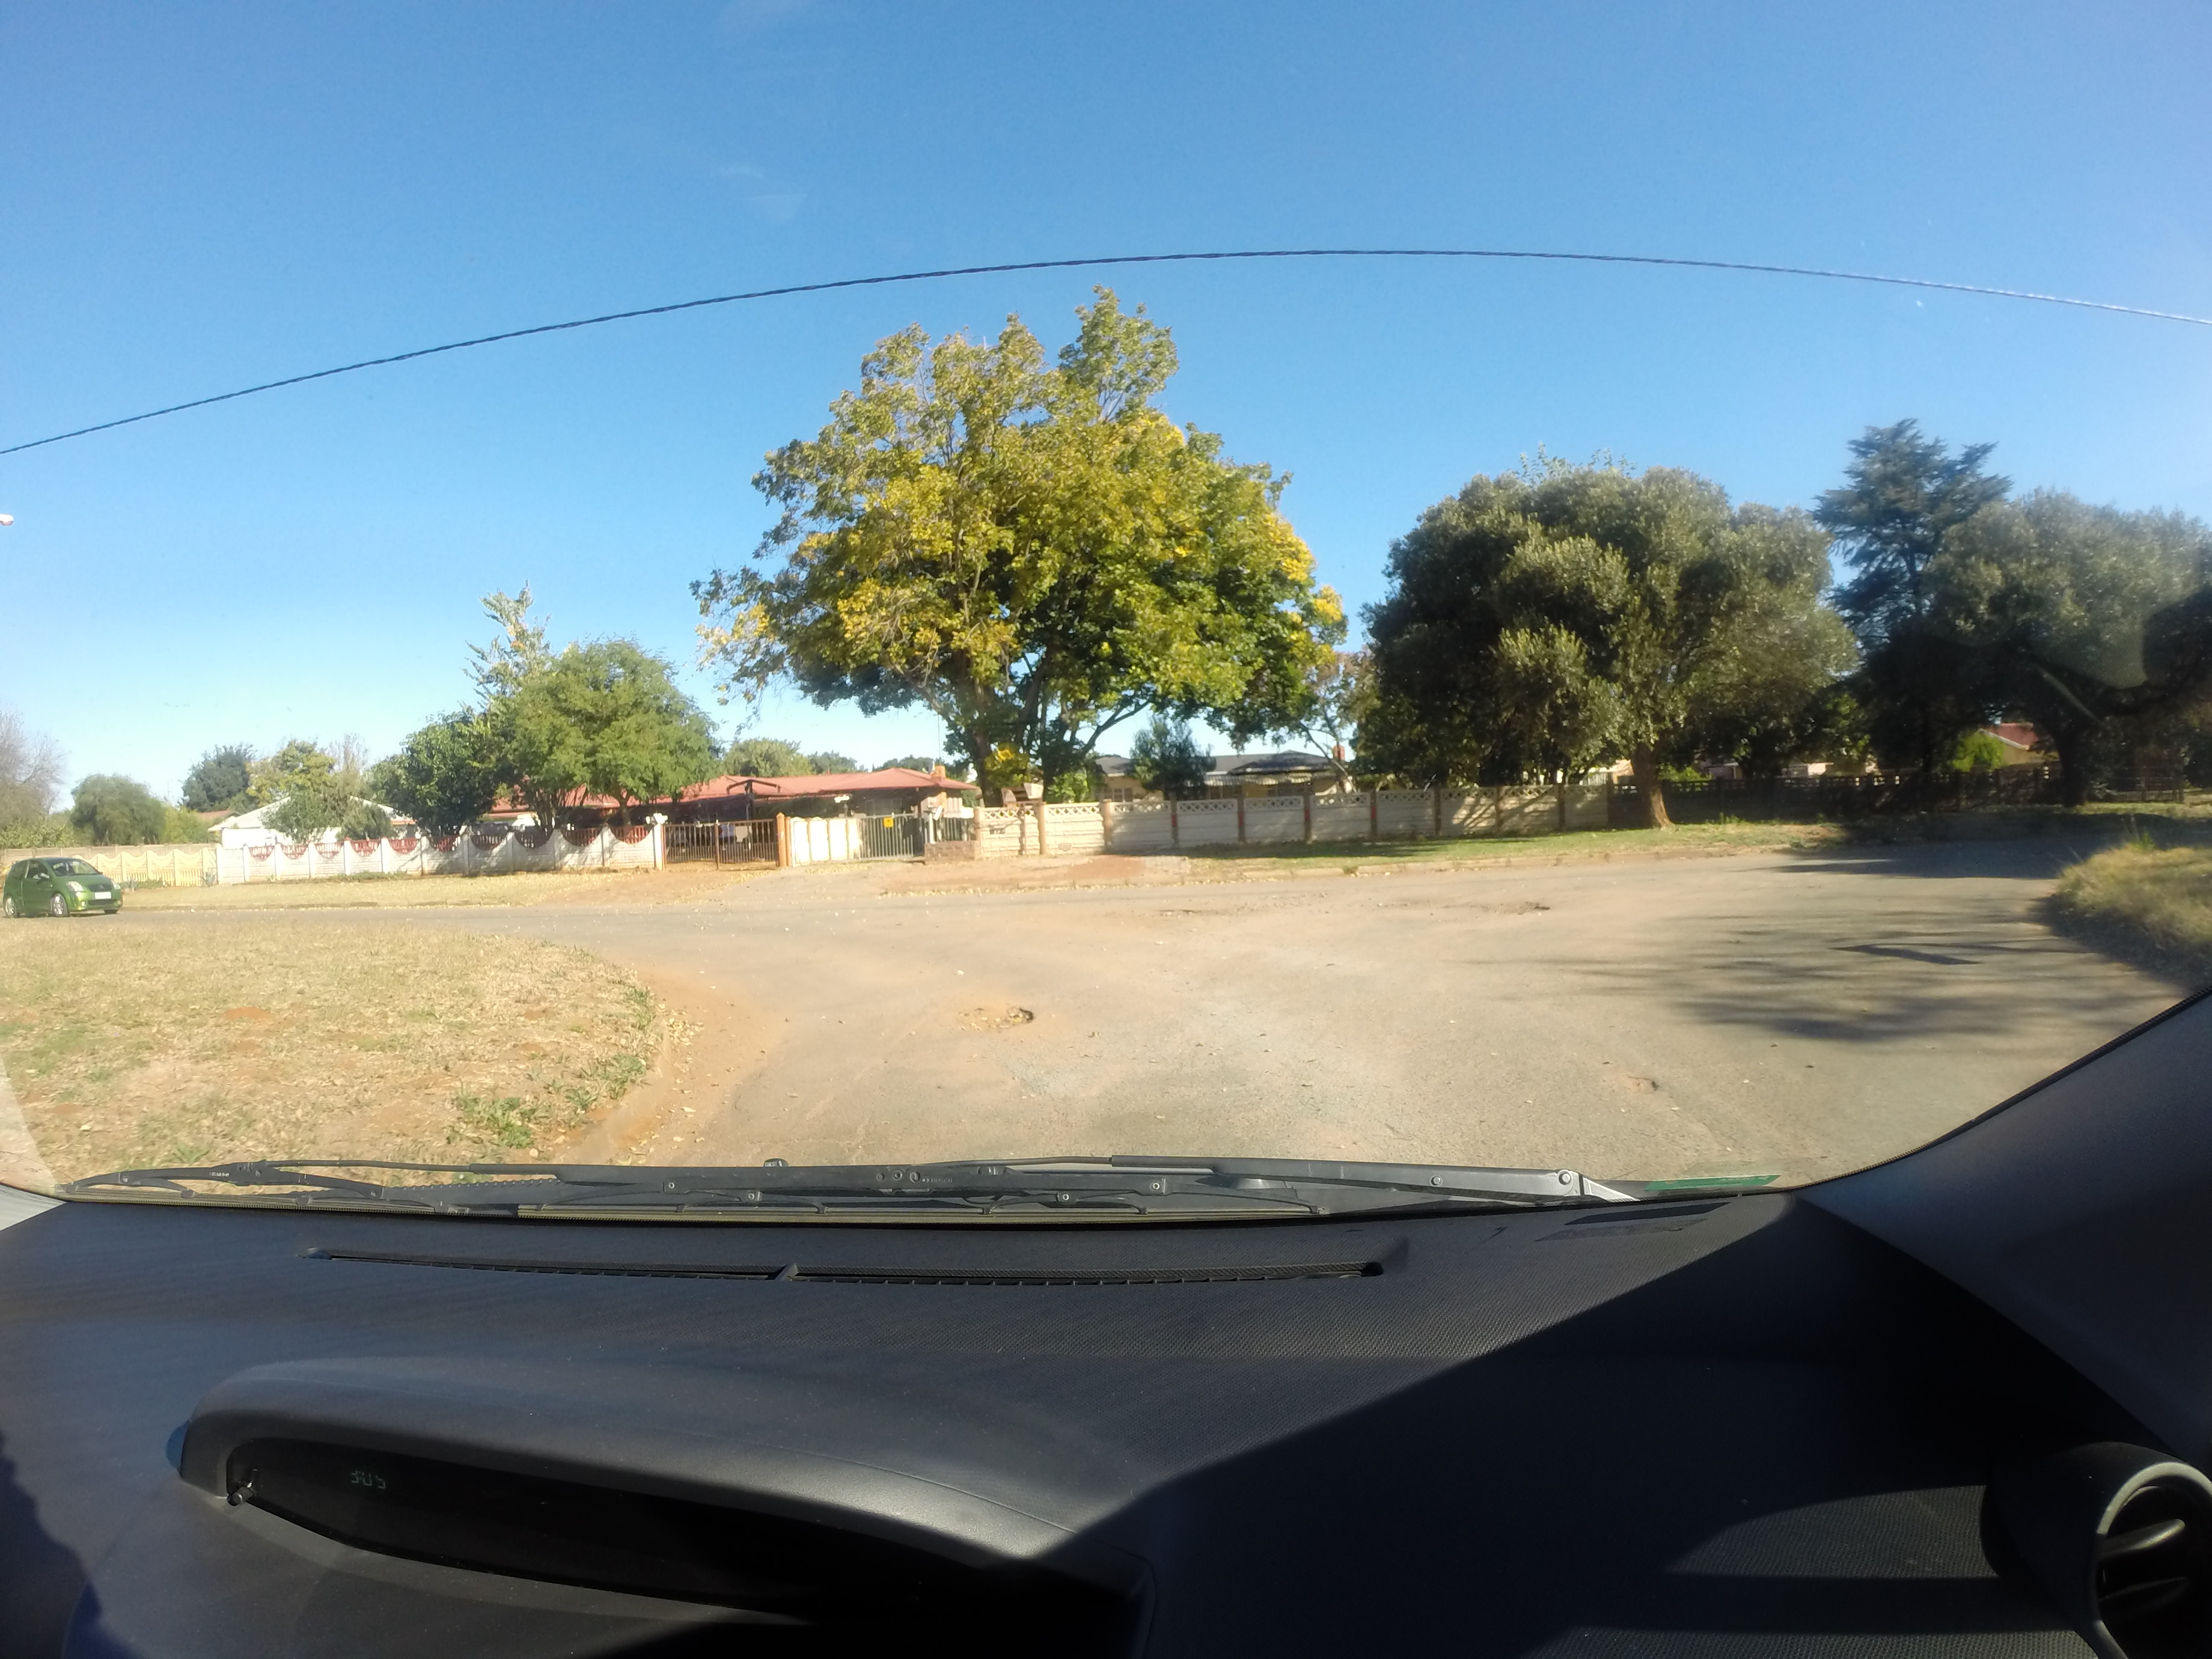pothole: (902, 986, 1068, 1089)
